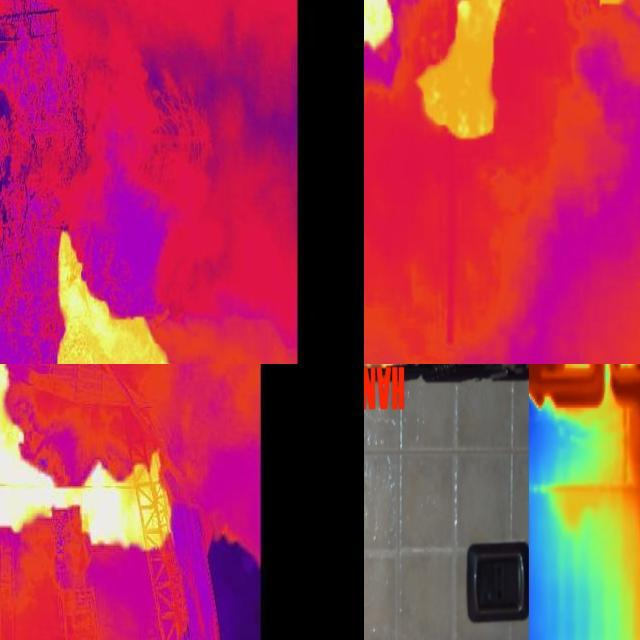fire: (18, 227, 174, 365), (418, 1, 509, 144), (75, 445, 180, 556), (1, 365, 67, 536), (529, 363, 640, 412)
